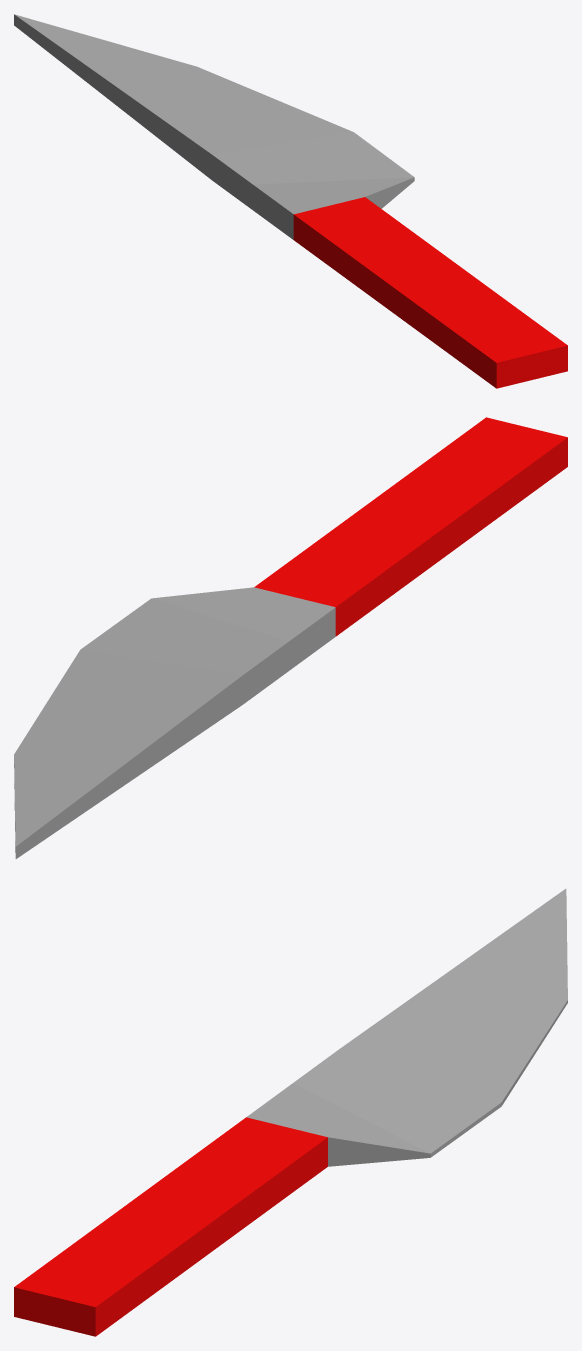
The model's file is Knife_Red.fbx.
The picture shows the model from 3 angles, top to bottom: view 1: azimuth 30°, elevation 25°; view 2: azimuth 150°, elevation 25°; view 3: azimuth 330°, elevation 25°; orthographic projection. The views are drawn at different scales.
Parts seen in each view (by area): view 1: Knife_Red; view 2: Knife_Red; view 3: Knife_Red.
Boxes of the visible parts, x1,y1,x2,y2 form: Knife_Red: [14, 14, 567, 388]; Knife_Red: [14, 417, 567, 858]; Knife_Red: [14, 888, 567, 1336].
Size of the model in its own units: 2.94 by 0.513 by 17.37.
